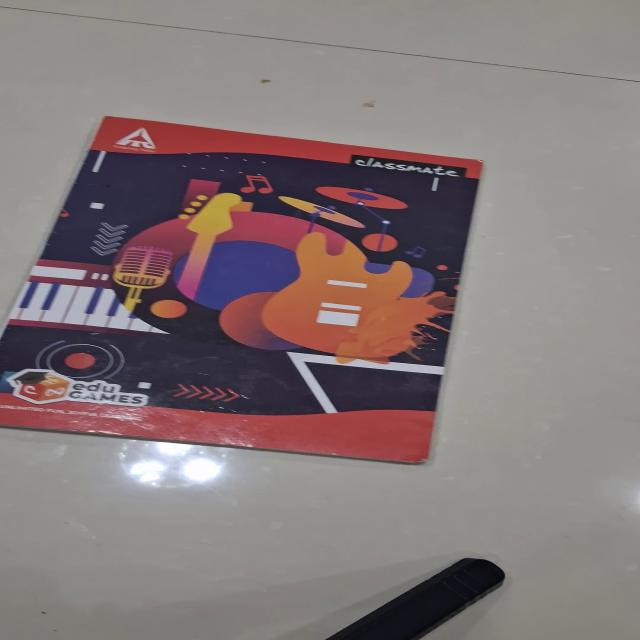paper: (1, 116, 484, 464)
